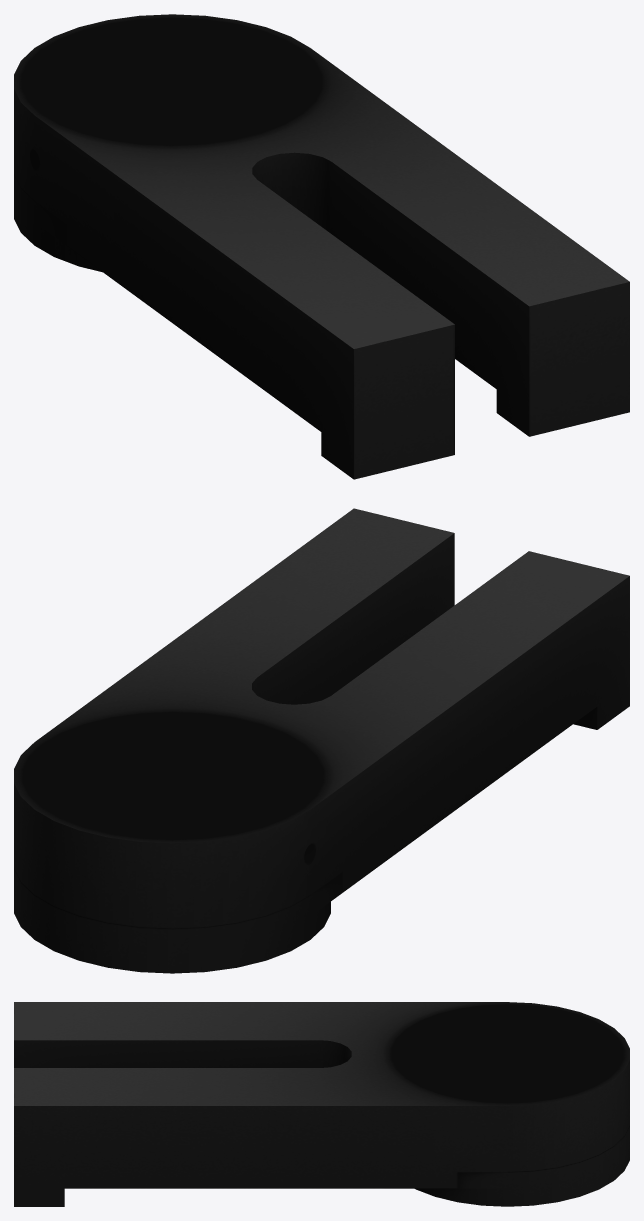
File: UPH2_Base.obj
The picture shows the model from 3 angles, top to bottom: view 1: azimuth 30°, elevation 25°; view 2: azimuth 150°, elevation 25°; view 3: azimuth 270°, elevation 25°; orthographic projection. The views are drawn at different scales.
Parts seen in each view (by area): view 1: polySurface954; view 2: polySurface954; view 3: polySurface954.
Boxes of the visible parts, x1,y1,x2,y2 form: polySurface954: (14, 14, 629, 479); polySurface954: (14, 508, 629, 973); polySurface954: (14, 1002, 629, 1206).
Size of the model in its own units: 24.95 by 11.27 by 62.41.
1 material, 1 textured.
